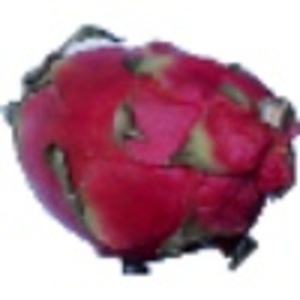pitaia: (1, 23, 300, 278)
